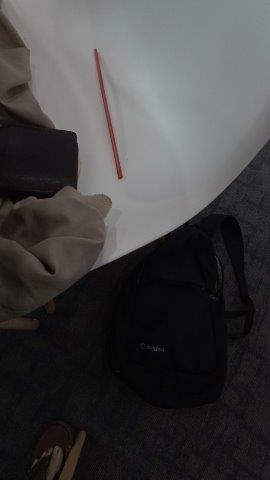sedotan: (94, 48, 122, 179)
